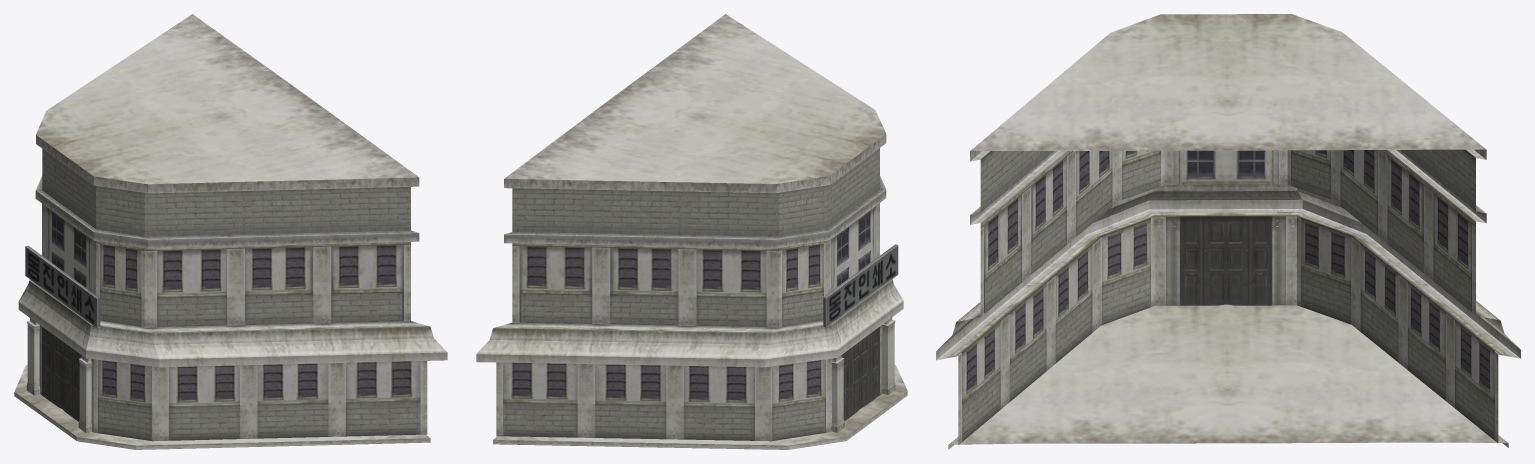
File: building1.FBX
The picture shows the model from 3 angles, left to right: view 1: azimuth 30°, elevation 25°; view 2: azimuth 150°, elevation 25°; view 3: azimuth 270°, elevation 25°; orthographic projection. The views are drawn at different scales.
Parts seen in each view (by area): view 1: Box002; view 2: Box002; view 3: Box002.
Boxes of the visible parts, x1,y1,x2,y2 form: Box002: (14,14,447,449); Box002: (476,14,907,449); Box002: (936,14,1520,449).
Size of the model in its own units: 89.94 by 80.46 by 143.
